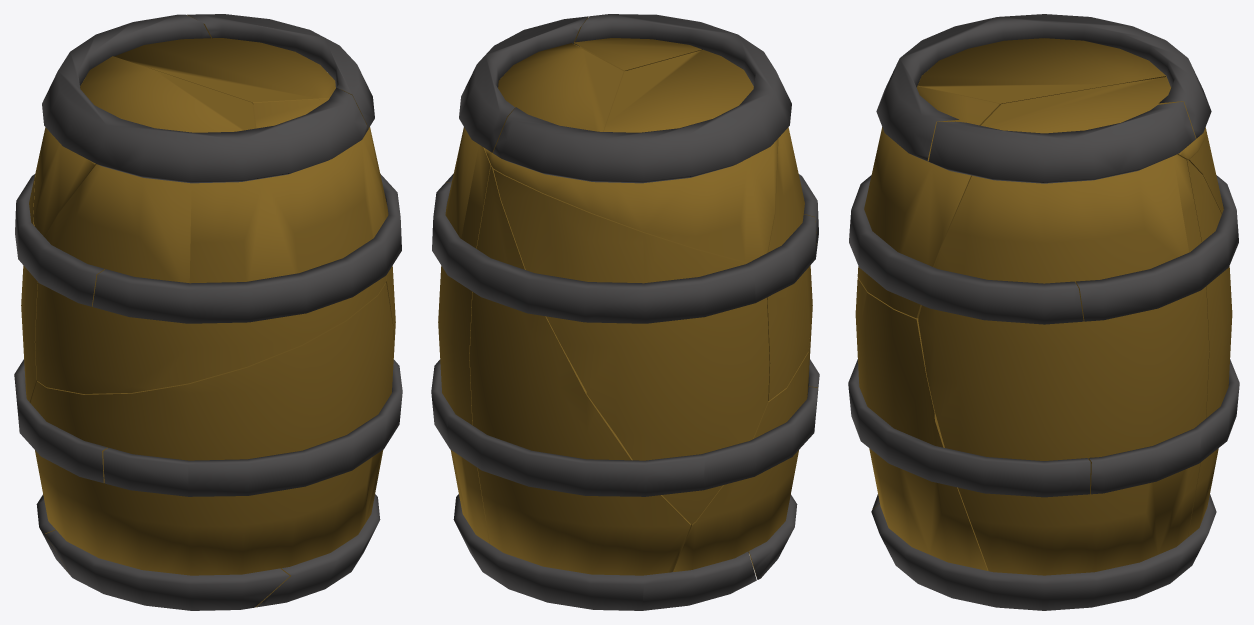
File: Barrel_Frag.fbx
3 views of the same model, side by side, from view 1: azimuth 30°, elevation 25°; view 2: azimuth 150°, elevation 25°; view 3: azimuth 270°, elevation 25° (orthographic).
Visible parts, largest first — view 1: Barrel_Body_cell.005, Barrel_Body_cell, Metal_01_cell.001, Metal_02_cell, Metal_03_cell, Top_Cover_cell.002, Top_Cover_cell, Metal_04_cell, Metal_01_cell, Metal_02_cell.001, Metal_04_cell.001, Metal_03_cell.001 (+4 smaller); view 2: Barrel_Body_cell.001, Barrel_Body_cell.003, Metal_01_cell.001, Metal_02_cell.001, Metal_03_cell.001, Barrel_Body_cell.004, Metal_04_cell.001, Barrel_Body_cell.002, Barrel_Body_cell.005, Top_Cover_cell, Top_Cover_cell.002, Barrel_Body_cell (+4 smaller); view 3: Barrel_Body_cell.002, Barrel_Body_cell.005, Metal_01_cell, Metal_01_cell.001, Metal_04_cell.001, Top_Cover_cell, Metal_02_cell, Barrel_Body_cell, Metal_03_cell, Metal_02_cell.001, Top_Cover_cell.002, Metal_03_cell.001 (+3 smaller).
Part boxes in pixels (x1=…): Barrel_Body_cell.005: x1=30, y1=283, x2=393, y2=575; Barrel_Body_cell: x1=35, y1=128, x2=386, y2=393; Metal_01_cell.001: x1=42, y1=14, x2=368, y2=183; Metal_02_cell: x1=92, y1=174, x2=401, y2=323; Metal_03_cell: x1=103, y1=359, x2=402, y2=496; Top_Cover_cell.002: x1=114, y1=38, x2=335, y2=104; Top_Cover_cell: x1=80, y1=56, x2=256, y2=132; Metal_04_cell: x1=45, y1=530, x2=289, y2=610; Metal_01_cell: x1=187, y1=14, x2=374, y2=128; Metal_02_cell.001: x1=15, y1=174, x2=104, y2=306; Metal_04_cell.001: x1=36, y1=494, x2=380, y2=607; Metal_03_cell.001: x1=14, y1=359, x2=107, y2=483; Barrel_Body_cell.001: x1=493, y1=169, x2=769, y2=524; Barrel_Body_cell.003: x1=469, y1=166, x2=690, y2=575; Metal_01_cell.001: x1=493, y1=14, x2=791, y2=183; Metal_02_cell.001: x1=432, y1=182, x2=816, y2=323; Metal_03_cell.001: x1=431, y1=360, x2=817, y2=496; Barrel_Body_cell.004: x1=484, y1=138, x2=778, y2=262; Metal_04_cell.001: x1=453, y1=494, x2=756, y2=610; Barrel_Body_cell.002: x1=438, y1=73, x2=505, y2=543; Barrel_Body_cell.005: x1=672, y1=315, x2=812, y2=571; Top_Cover_cell: x1=603, y1=49, x2=753, y2=132; Top_Cover_cell.002: x1=498, y1=43, x2=625, y2=131; Barrel_Body_cell: x1=749, y1=79, x2=812, y2=400; Barrel_Body_cell.002: x1=918, y1=154, x2=1209, y2=575; Barrel_Body_cell.005: x1=855, y1=278, x2=988, y2=570; Metal_01_cell: x1=928, y1=101, x2=1195, y2=183; Metal_01_cell.001: x1=876, y1=14, x2=1211, y2=164; Metal_04_cell.001: x1=871, y1=494, x2=1216, y2=610; Top_Cover_cell: x1=918, y1=38, x2=1165, y2=104; Metal_02_cell: x1=849, y1=175, x2=1083, y2=324; Barrel_Body_cell: x1=857, y1=72, x2=971, y2=318; Metal_03_cell: x1=848, y1=359, x2=1090, y2=497; Metal_02_cell.001: x1=1076, y1=175, x2=1238, y2=321; Top_Cover_cell.002: x1=979, y1=77, x2=1170, y2=133; Metal_03_cell.001: x1=1088, y1=359, x2=1239, y2=494.
Bounding box in the file's own units: 0.8611 × 0.8611 × 1.13.
